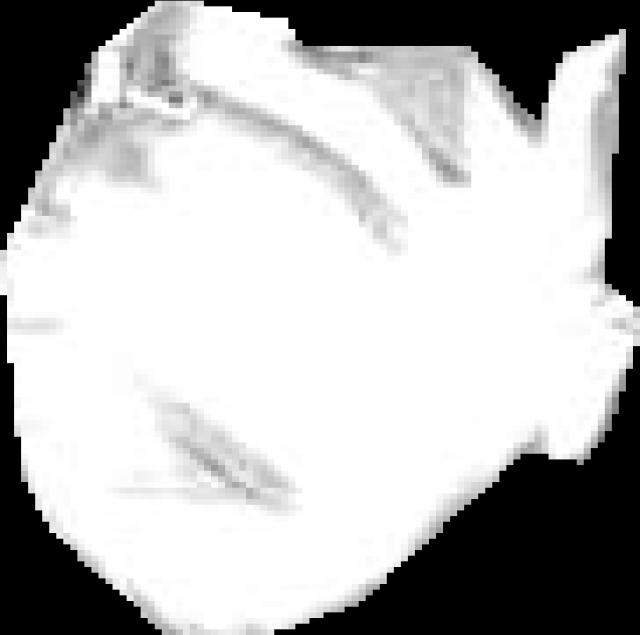tumor_less_chance: (0, 1, 640, 635)
